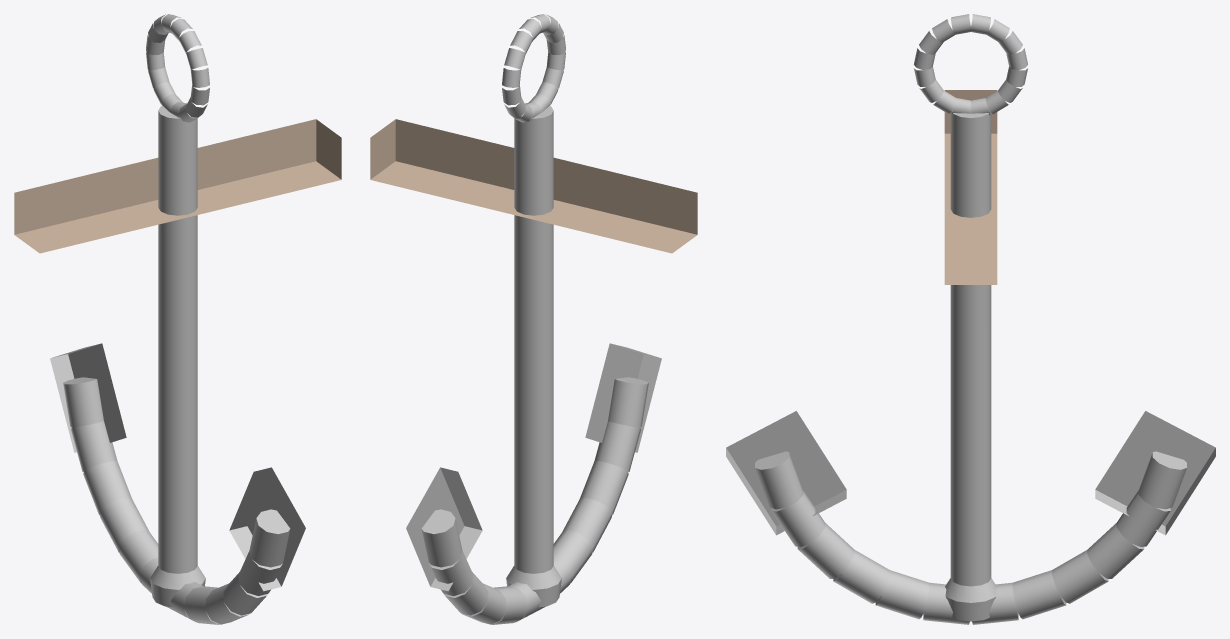
The model's file is HarborAnchor.gltf.
3 renders of one model, left to right at view 1: azimuth 30°, elevation 25°; view 2: azimuth 150°, elevation 25°; view 3: azimuth 270°, elevation 25°, orthographic. The views are drawn at different scales.
Parts seen in each view (by area): view 1: HarborAnchor; view 2: HarborAnchor; view 3: HarborAnchor.
Boxes of the visible parts, box(x1,y1,x2,y2) form: HarborAnchor: box(14, 14, 341, 624); HarborAnchor: box(370, 14, 697, 624); HarborAnchor: box(726, 14, 1215, 624).
Size of the model in its own units: 1.5 by 2.8 by 2.05.
